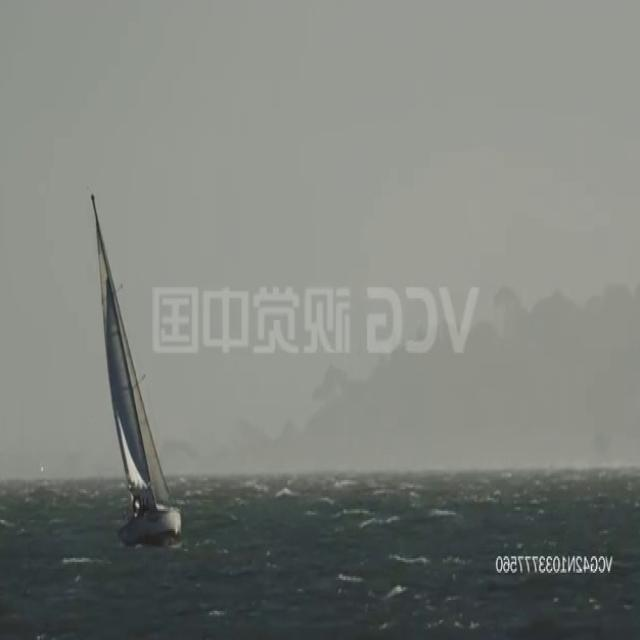sailboat: (90, 187, 182, 544)
